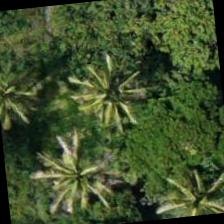Kelapa_Sawit: (60, 42, 160, 142), (25, 130, 125, 223), (146, 155, 223, 220), (0, 49, 52, 145)
